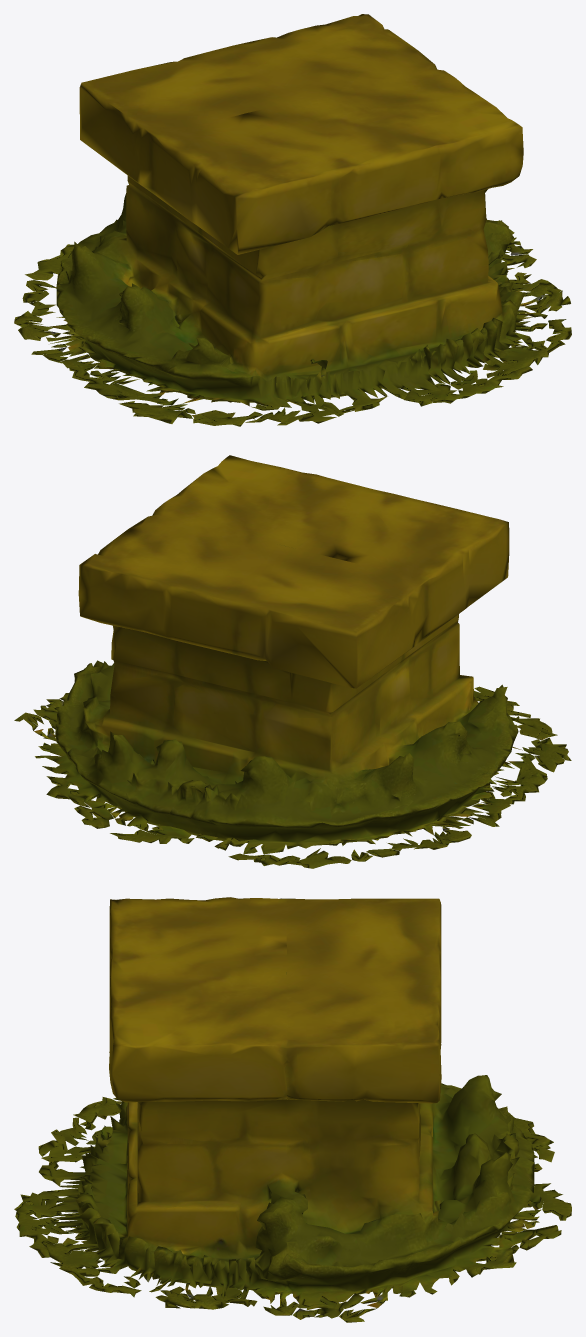
File: stone+pedestal.fbx
The picture shows the model from 3 angles, top to bottom: view 1: azimuth 30°, elevation 25°; view 2: azimuth 150°, elevation 25°; view 3: azimuth 270°, elevation 25°; orthographic projection. The views are drawn at different scales.
Visible parts, largest first — view 1: tripo_node_3460831d; view 2: tripo_node_3460831d; view 3: tripo_node_3460831d.
Boxes of the visible parts, left/top/right/bottom form: tripo_node_3460831d: left=14, top=14, right=571, bottom=426; tripo_node_3460831d: left=14, top=455, right=571, bottom=868; tripo_node_3460831d: left=14, top=897, right=571, bottom=1322.
Bounding box in the file's own units: 0.9937 × 0.4357 × 0.9355.
Materials: 1 (1 with a texture image).
